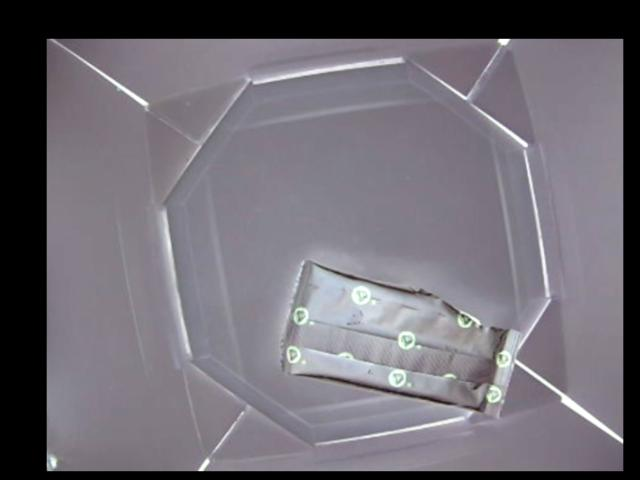Medicine: (280, 261, 522, 418)
